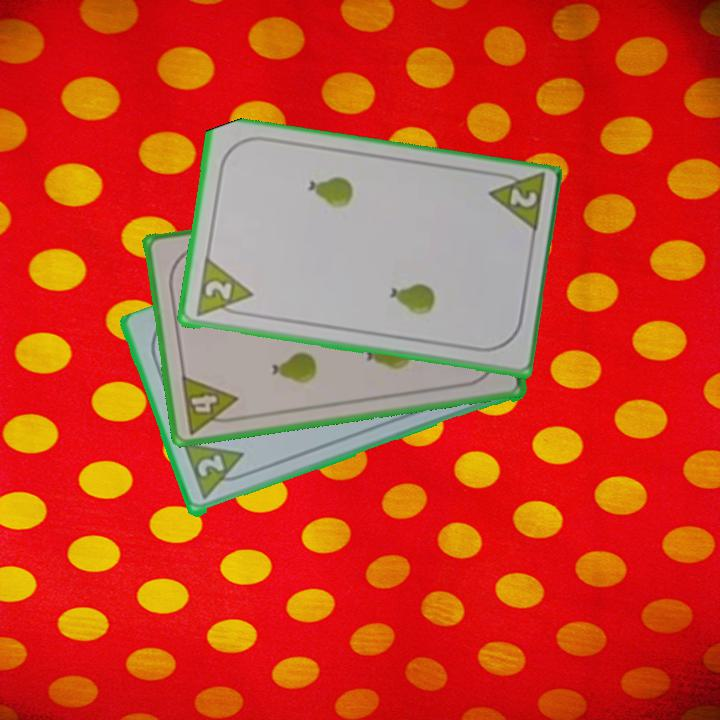2p: (180, 440, 253, 503), (483, 170, 547, 238), (192, 255, 255, 320)
4p: (178, 372, 243, 437)
